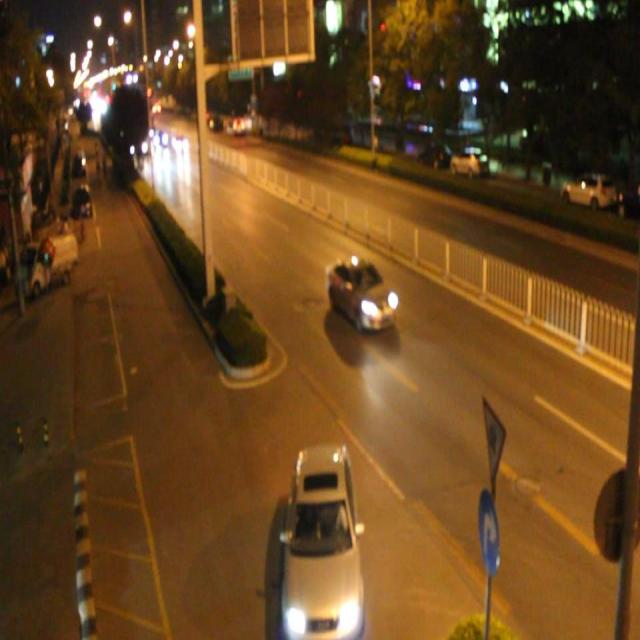car: (277, 442, 364, 640), (326, 252, 395, 332), (172, 134, 190, 154), (153, 130, 168, 150), (233, 115, 245, 134)
